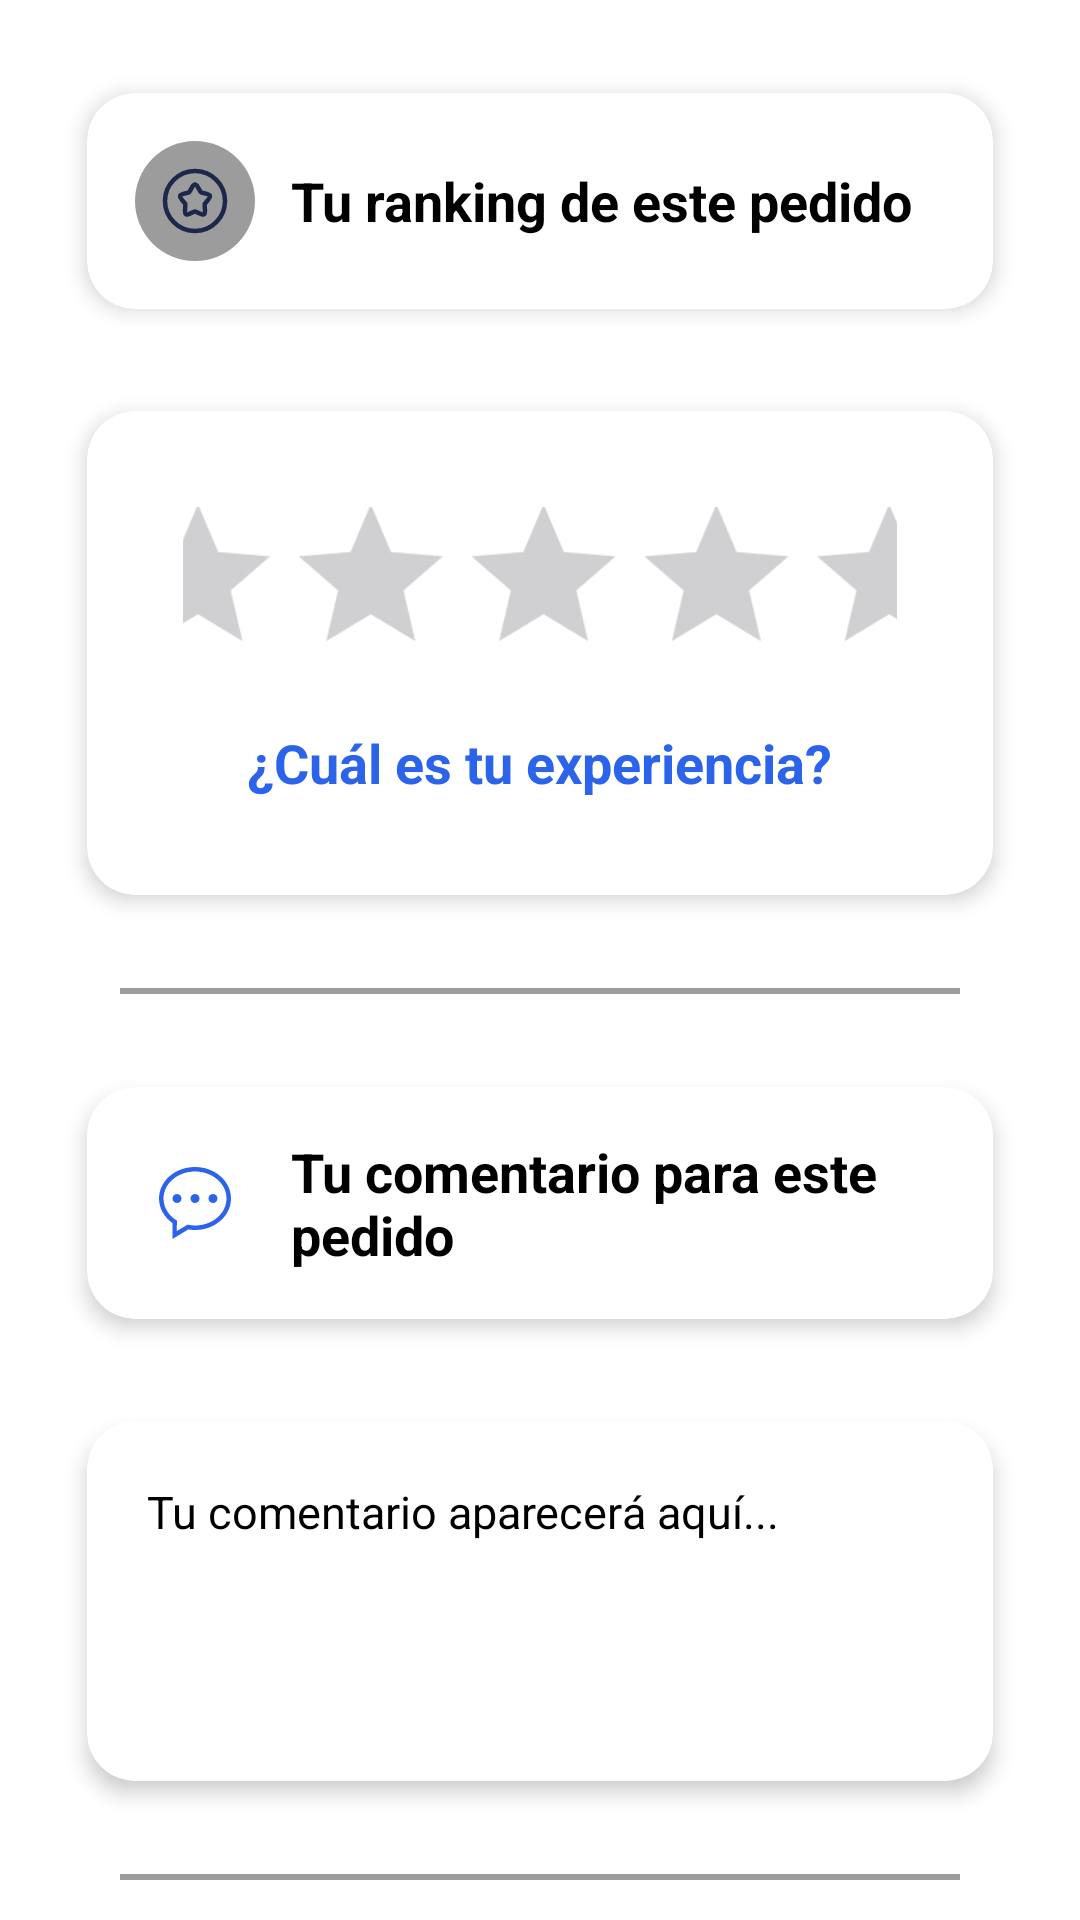

Icon click points for this 1080px x 1920px phone screenshot, format point (x, y):
Calificación: point (195, 201)
